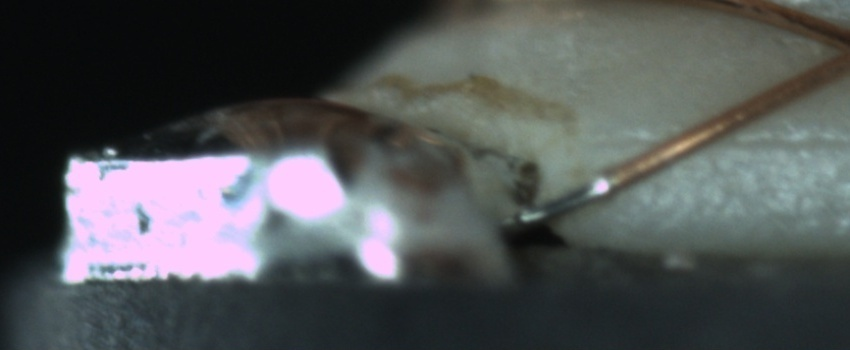CL: (806, 14, 850, 84)
DL: (604, 110, 849, 174)
TS: (515, 177, 613, 226)
TTCW: (514, 169, 627, 225)
